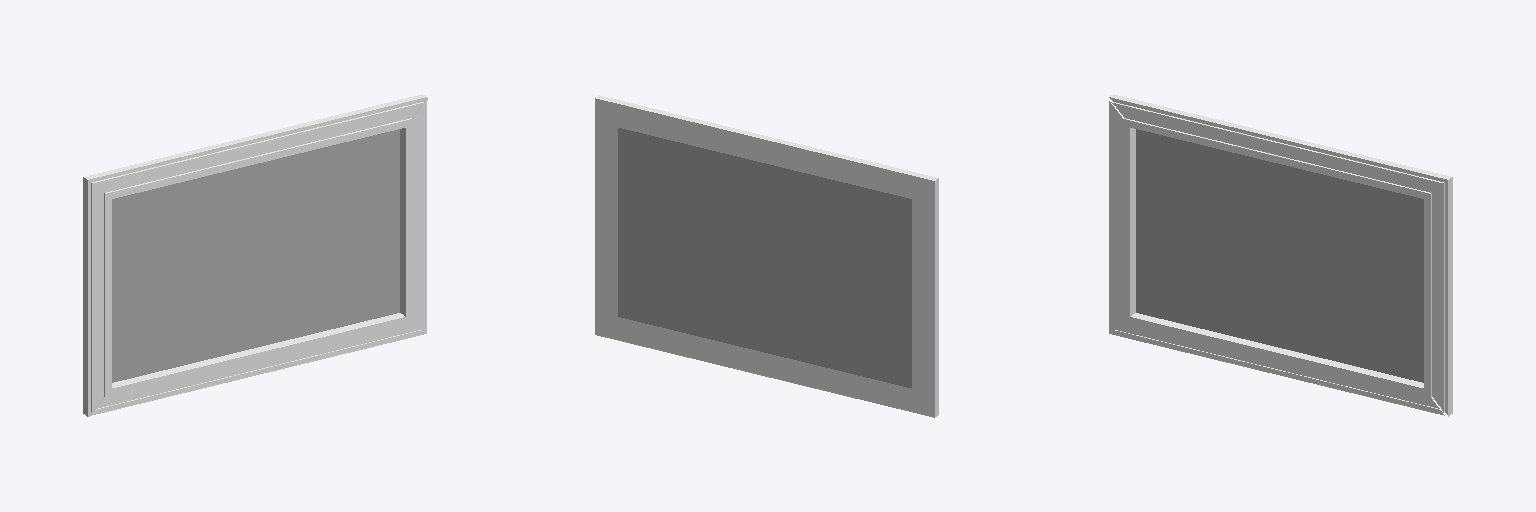
The picture shows the model from 3 angles: view 1: azimuth 30°, elevation 25°; view 2: azimuth 150°, elevation 25°; view 3: azimuth 330°, elevation 25°; orthographic projection.
Visible parts, largest first — view 1: mirror_001, Group_001; view 2: mirror_001, Group_001; view 3: mirror_001, Group_001.
Boxes of the visible parts, <box> form: mirror_001: <box>112,129,399,382</box>; Group_001: <box>83,94,427,416</box>; mirror_001: <box>618,128,911,387</box>; Group_001: <box>595,95,939,417</box>; mirror_001: <box>1136,129,1423,382</box>; Group_001: <box>1108,94,1452,416</box>.
Size of the model in its own units: 47.24 by 31.5 by 1.38.